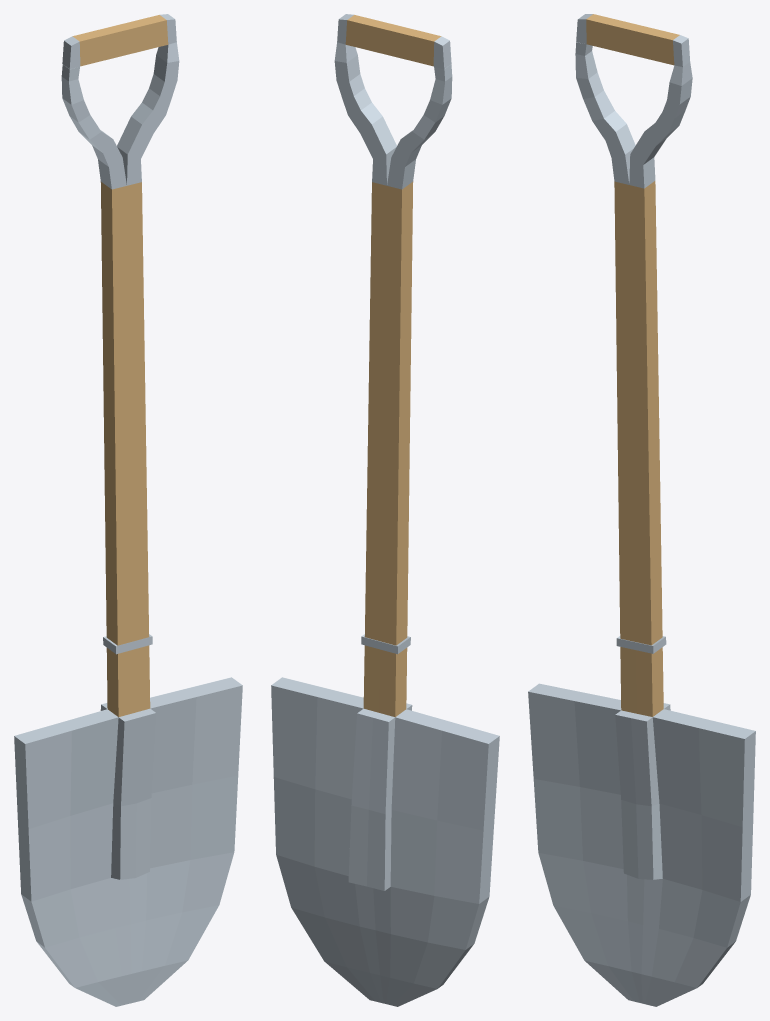
Rendered from Shovel.fbx.
3 renders of one model, left to right at view 1: azimuth 30°, elevation 25°; view 2: azimuth 150°, elevation 25°; view 3: azimuth 330°, elevation 25°, orthographic.
Visible parts, largest first — view 1: Cube; view 2: Cube; view 3: Cube.
Part boxes in pixels (<box>): Cube: <box>14,14,242,1006</box>; Cube: <box>271,14,499,1006</box>; Cube: <box>528,14,755,1006</box>.
Bounding box in the file's own units: 0.3178 × 1.36 × 0.0722.
